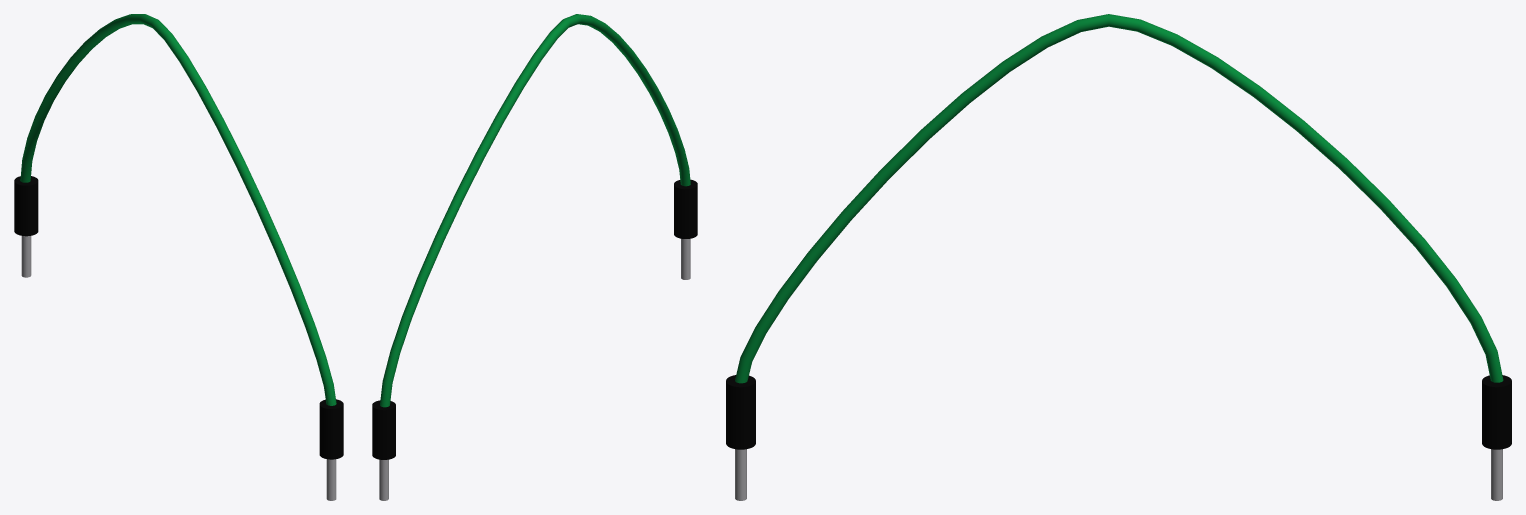
File: jumper_cable_green.fbx
3 renders of one model, left to right at view 1: azimuth 30°, elevation 25°; view 2: azimuth 150°, elevation 25°; view 3: azimuth 270°, elevation 25°, orthographic. The views are drawn at different scales.
Visible parts, largest first — view 1: BezierCurve, Cylinder, Cylinder.003, Cylinder.001, Cylinder.002; view 2: BezierCurve, Cylinder, Cylinder.003, Cylinder.002, Cylinder.001; view 3: BezierCurve, Cylinder.003, Cylinder.
Part boxes in pixels (left/top/right/bottom): BezierCurve: left=20, top=14, right=336, bottom=405; Cylinder: left=319, top=399, right=343, bottom=459; Cylinder.003: left=14, top=176, right=38, bottom=236; Cylinder.001: left=326, top=459, right=336, bottom=500; Cylinder.002: left=21, top=236, right=31, bottom=277; BezierCurve: left=380, top=14, right=690, bottom=407; Cylinder: left=674, top=179, right=697, bottom=238; Cylinder.003: left=372, top=400, right=395, bottom=459; Cylinder.002: left=379, top=459, right=388, bottom=500; Cylinder.001: left=681, top=238, right=690, bottom=279; BezierCurve: left=735, top=14, right=1503, bottom=383; Cylinder.003: left=1482, top=375, right=1511, bottom=449; Cylinder: left=726, top=375, right=755, bottom=449.
Bounding box in the file's own units: 55.67 × 477 × 727.
